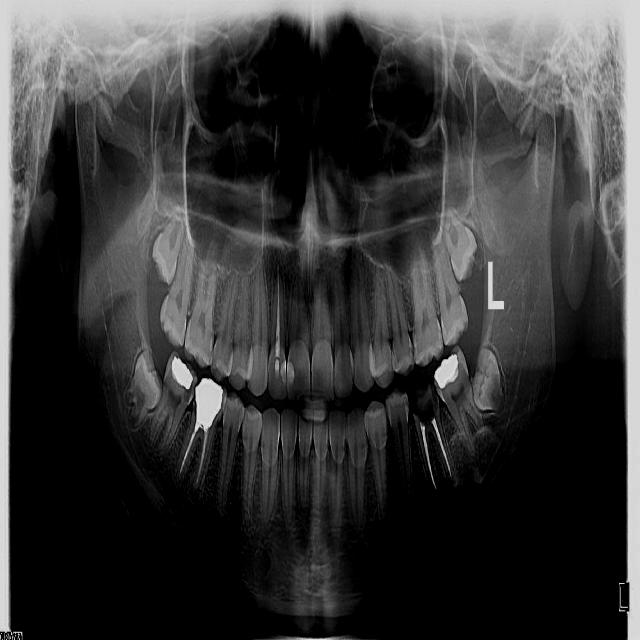Caries: (412, 384, 440, 427), (184, 375, 196, 406), (408, 344, 413, 359), (414, 342, 418, 357)
Filling: (195, 376, 222, 430), (434, 353, 458, 388), (269, 355, 286, 397), (171, 355, 193, 387), (287, 359, 295, 388)
Root Canal Treatment: (430, 419, 451, 481), (178, 420, 200, 478), (420, 421, 435, 488), (195, 427, 209, 488), (275, 264, 280, 360)
